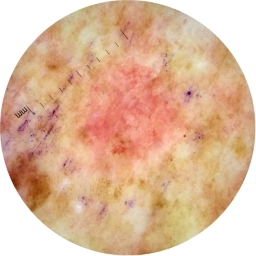nevus: (86, 64, 179, 154)
